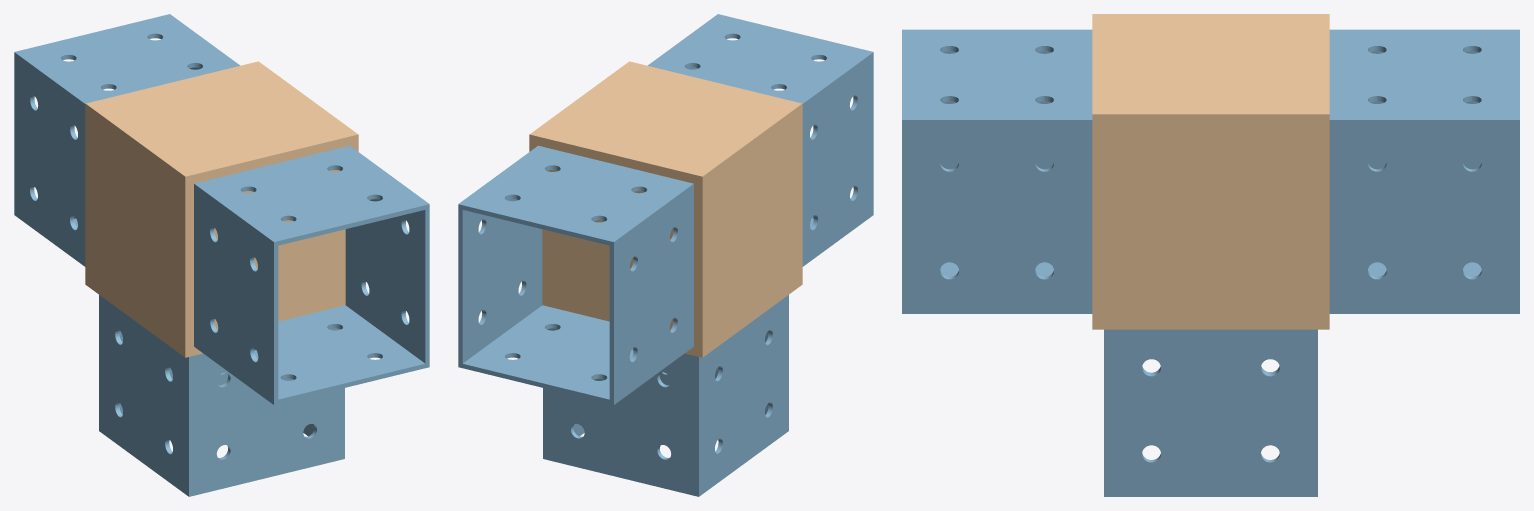
3 renders of one model, left to right at view 1: azimuth 30°, elevation 25°; view 2: azimuth 150°, elevation 25°; view 3: azimuth 270°, elevation 25°, orthographic. The views are drawn at different scales.
Visible parts, largest first — view 1: <组件#23>_15, <组件#22>_4, <组件#23>_14, <组件#23>_16; view 2: <组件#23>_16, <组件#22>_4, <组件#23>_14, <组件#23>_15; view 3: <组件#22>_4, <组件#23>_15, <组件#23>_16, <组件#23>_14.
Part boxes in pixels (x1,y1,x2,y2): <组件#23>_15: [194, 145, 429, 404]; <组件#22>_4: [85, 61, 358, 357]; <组件#23>_14: [99, 295, 344, 496]; <组件#23>_16: [14, 14, 240, 266]; <组件#23>_16: [458, 145, 693, 404]; <组件#22>_4: [529, 61, 802, 357]; <组件#23>_14: [543, 295, 788, 496]; <组件#23>_15: [647, 14, 873, 266]; <组件#22>_4: [1092, 14, 1329, 329]; <组件#23>_15: [902, 29, 1092, 313]; <组件#23>_16: [1329, 29, 1519, 313]; <组件#23>_14: [1104, 329, 1317, 496].
Bounding box in the file's own units: 7.87 × 14.17 × 20.47.
